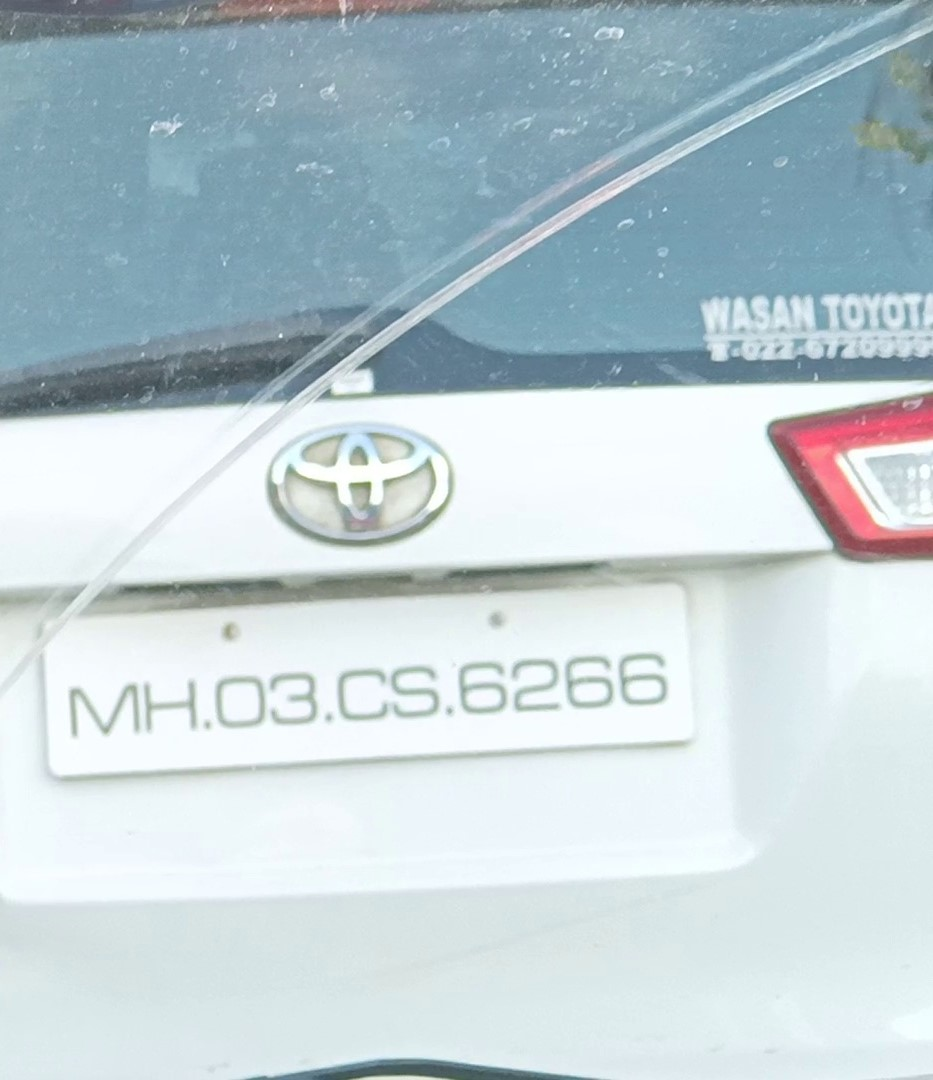MH03CS6266: (44, 578, 697, 778)
